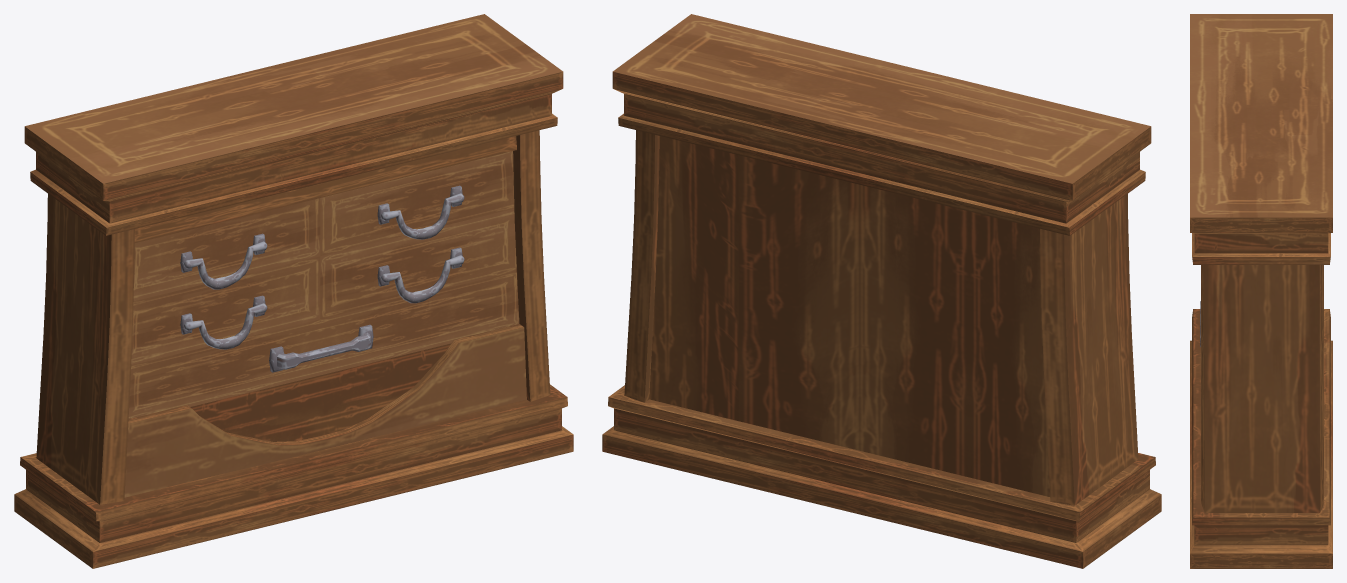
Rendered from Dresser_1.fbx.
3 views of the same model, side by side, from view 1: azimuth 30°, elevation 25°; view 2: azimuth 150°, elevation 25°; view 3: azimuth 270°, elevation 25° (orthographic). The views are drawn at different scales.
Parts seen in each view (by area): view 1: Dresser_1; view 2: Dresser_1; view 3: Dresser_1.
Part boxes in pixels (x1,y1,x2,y2): Dresser_1: (14,14,573,568); Dresser_1: (602,14,1161,568); Dresser_1: (1190,14,1332,568).
Bounding box in the file's own units: 146 × 111 × 41.46.
